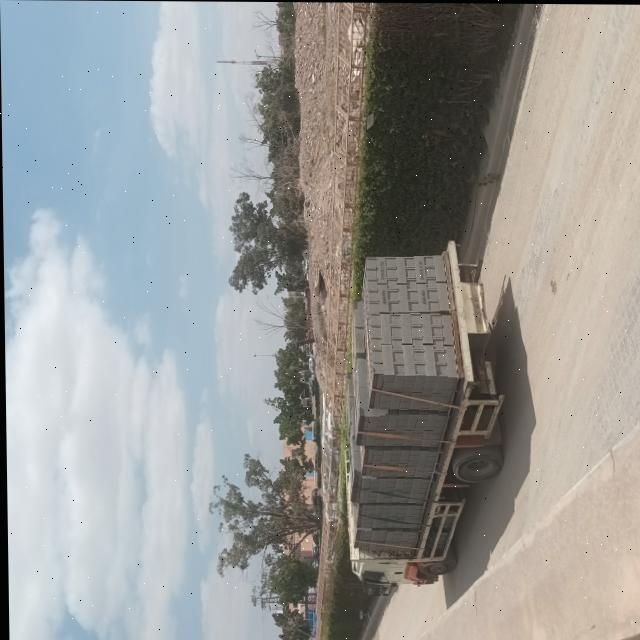bricks: (354, 256, 456, 555)
